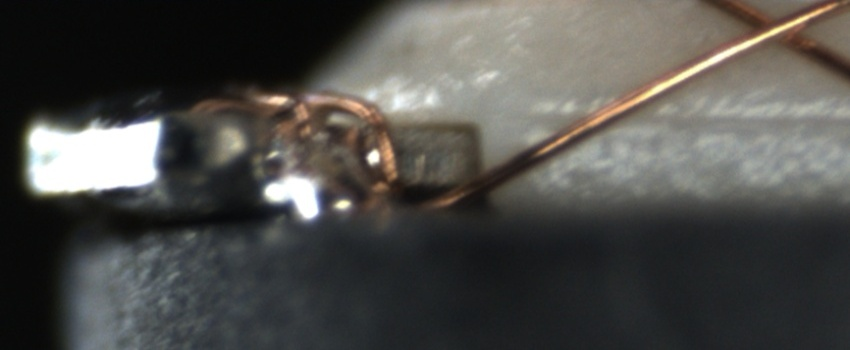CL: (721, 0, 828, 58)
DL: (527, 89, 850, 152)
TE: (197, 81, 409, 197)
